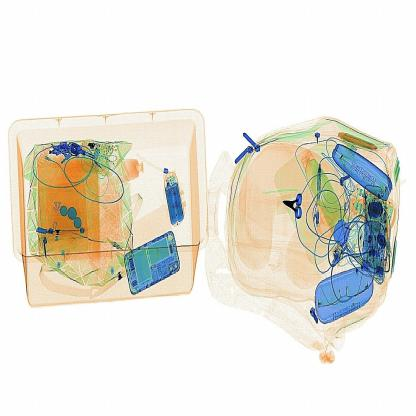gun: (270, 182, 314, 222)
